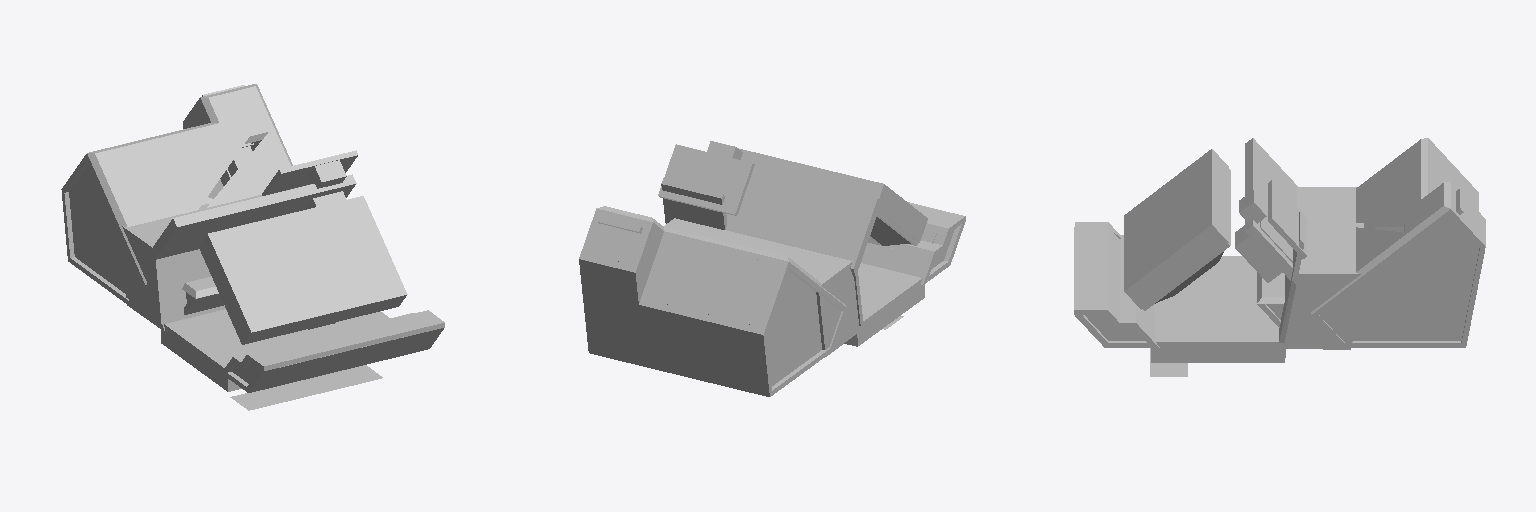
The model's file is cabinet.obj.
3 renders of one model, left to right at view 1: azimuth 30°, elevation 25°; view 2: azimuth 150°, elevation 25°; view 3: azimuth 270°, elevation 25°, orthographic.
Visible parts, largest first — view 1: punch.display.inner_Cube.026, display.outer_Cube.029, bottom.punch_Cube.034, top.punch_Cube.033, side.left.001_Cube.038, back.punch_Cube.031, fp.front.001_Cube.066, fp.top.004_Cube.059, fp.top.001_Cube.027, back.001_Cube.045, fp.top.002_Cube.064, bv.cover.top.001_Cube.044 (+4 smaller); view 2: back_Cube.018, top.punch_Cube.033, top_Cube.042, back.punch_Cube.031, side.left.001_Cube.038, bv.cover.top.001_Cube.044, punch.display.inner_Cube.026, bottom.punch_Cube.034, bv.cover.top_Cube.039, back.001_Cube.045, display.inner_Cube.014, front.piece.long_Cube.040 (+5 smaller); view 3: punch.display.inner_Cube.026, side.right_Cube.036, bottom.punch_Cube.034, back.punch_Cube.031, display.outer_Cube.029, top.punch_Cube.033, fp.top.004_Cube.059, punch.validator_Cube.028, bv.cover.top.001_Cube.044, display.inner_Cube.014, top_Cube.042, display_Cube.005 (+12 smaller).
Boxes of the visible parts, box(x1,y1,x2,y2) form: punch.display.inner_Cube.026: box(199, 196, 407, 344); display.outer_Cube.029: box(87, 84, 292, 284); bottom.punch_Cube.034: box(161, 309, 389, 391); top.punch_Cube.033: box(149, 174, 356, 264); side.left.001_Cube.038: box(69, 164, 125, 293); back.punch_Cube.031: box(121, 195, 261, 330); fp.front.001_Cube.066: box(249, 328, 443, 389); fp.top.004_Cube.059: box(245, 310, 443, 370); fp.top.001_Cube.027: box(230, 365, 382, 410); back.001_Cube.045: box(153, 184, 310, 324); fp.top.002_Cube.064: box(247, 310, 444, 370); bv.cover.top.001_Cube.044: box(262, 150, 357, 195); back_Cube.018: box(579, 252, 771, 392); top.punch_Cube.033: box(726, 168, 881, 276); top_Cube.042: box(641, 236, 788, 333); back.punch_Cube.031: box(664, 218, 862, 356); side.left.001_Cube.038: box(766, 270, 821, 385); bv.cover.top.001_Cube.044: box(658, 144, 754, 215); punch.display.inner_Cube.026: box(738, 148, 927, 242); bottom.punch_Cube.034: box(844, 263, 924, 346); bv.cover.top_Cube.039: box(581, 214, 652, 271); back.001_Cube.045: box(661, 178, 862, 325); display.inner_Cube.014: box(595, 209, 846, 312); front.piece.long_Cube.040: box(861, 243, 935, 284); punch.display.inner_Cube.026: box(1124, 149, 1228, 309); side.right_Cube.036: box(1353, 216, 1478, 340); bottom.punch_Cube.034: box(1151, 256, 1285, 362); back.punch_Cube.031: box(1278, 187, 1363, 349); display.outer_Cube.029: box(1311, 138, 1450, 314); top.punch_Cube.033: box(1245, 138, 1297, 280); fp.top.004_Cube.059: box(1075, 222, 1112, 314); punch.validator_Cube.028: box(1235, 217, 1292, 282); bv.cover.top.001_Cube.044: box(1268, 180, 1306, 258); display.inner_Cube.014: box(1312, 138, 1453, 318); top_Cube.042: box(1432, 142, 1474, 206); display_Cube.005: box(1143, 169, 1230, 310).
Bounding box in the file's own units: 642 × 574 × 1188.